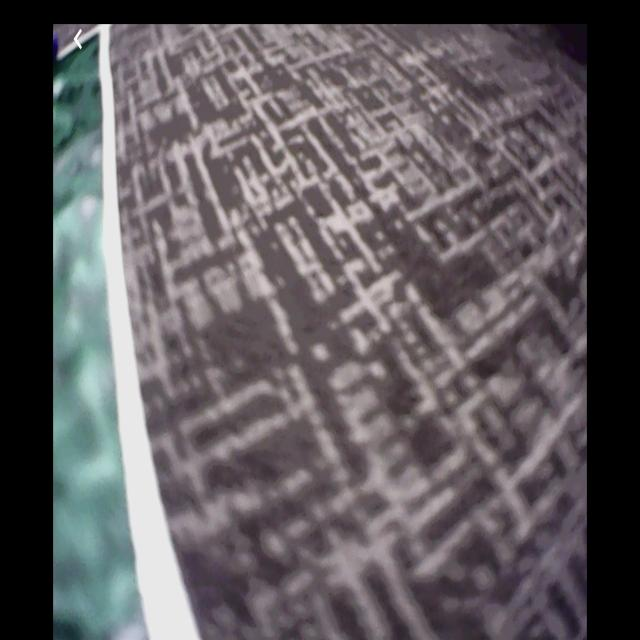ball: (53, 31, 61, 62)
